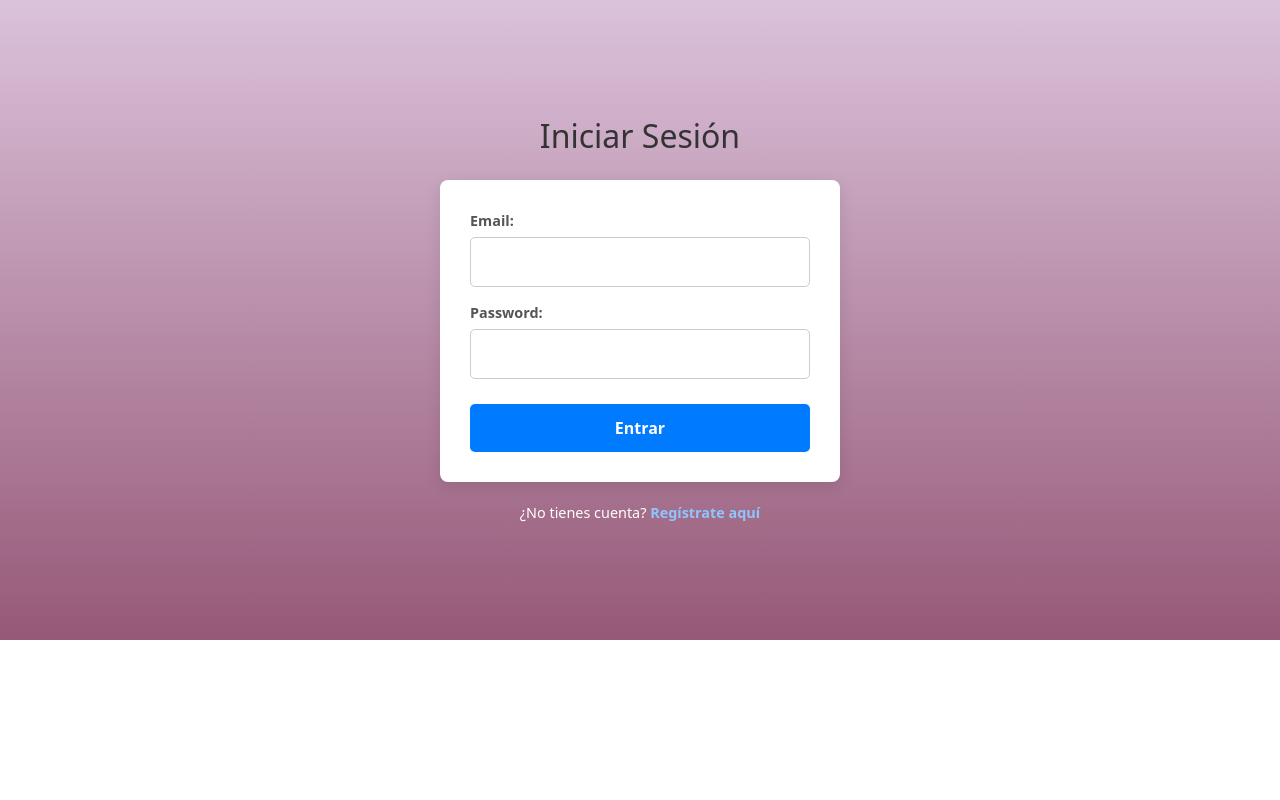
Scenario: IniciarSesion Component › muestra error con credenciales incorrectas
Type "wrong@example.com" into the field labelled "Email:" at [640, 262], box [470,237,810,287]
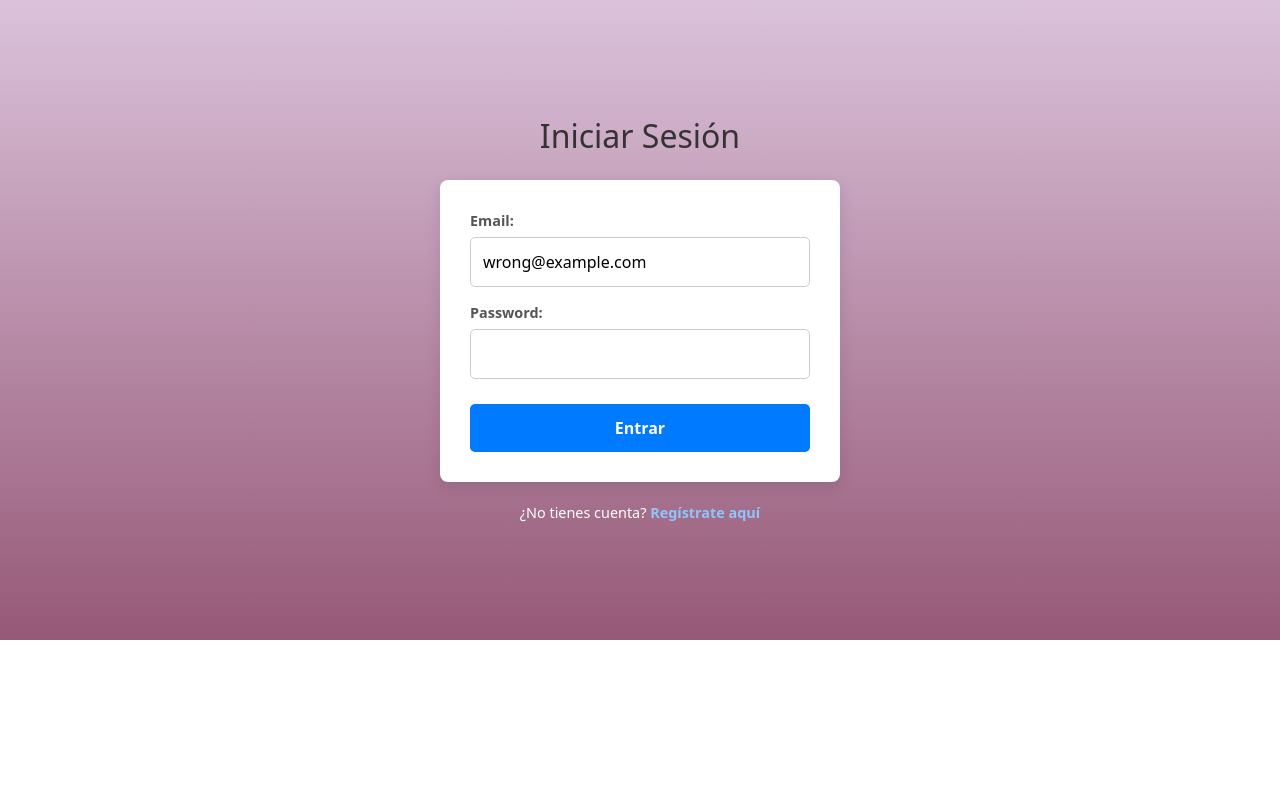
Type "1234" into the password field labelled "Password:" at [640, 354], box [470,328,810,378]
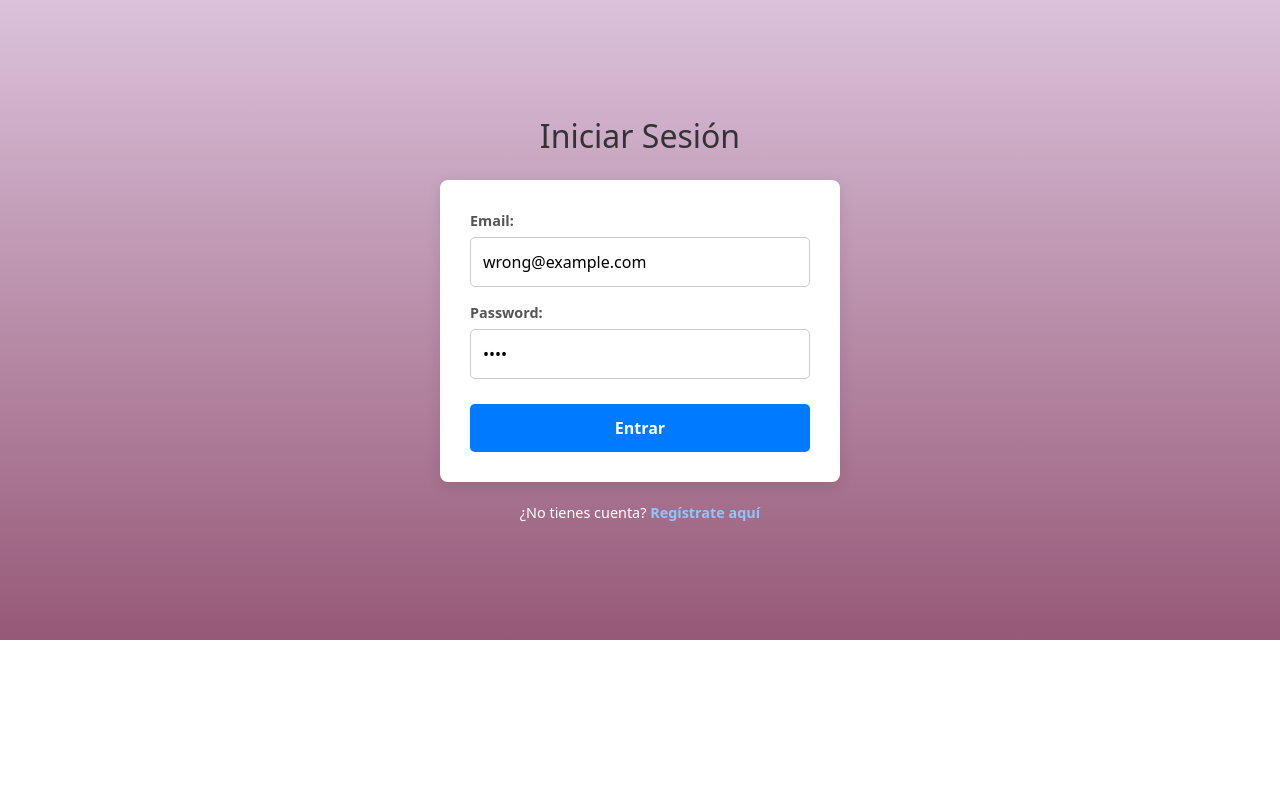
Click the button "Entrar" at [640, 428], box [470,404,810,452]
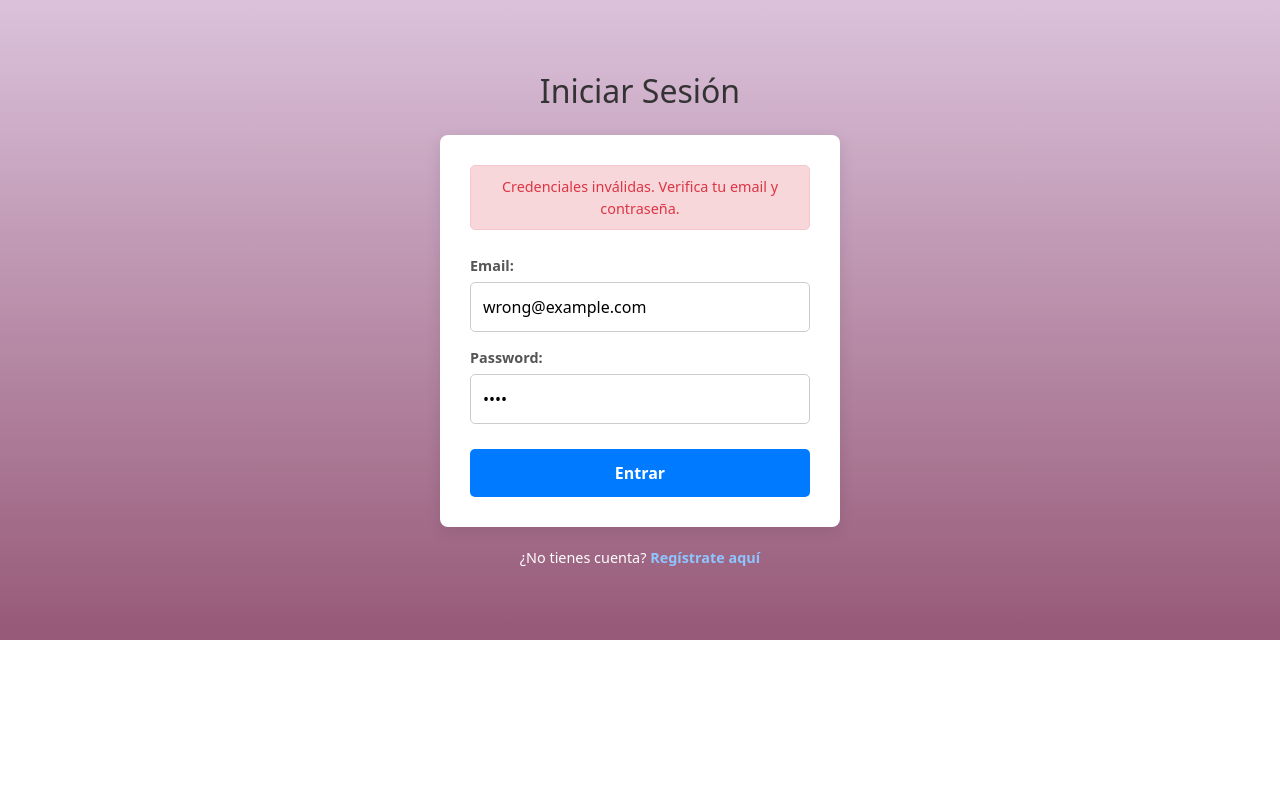
Expected: the text "Credenciales inválidas. Verifica tu email y contraseña." is shown, [470,165,810,230]
